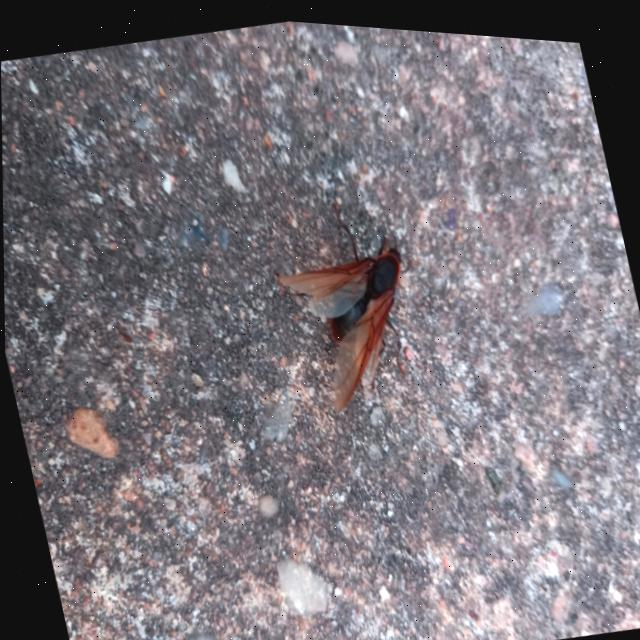Alive-Male-Alate: (260, 178, 443, 420)
